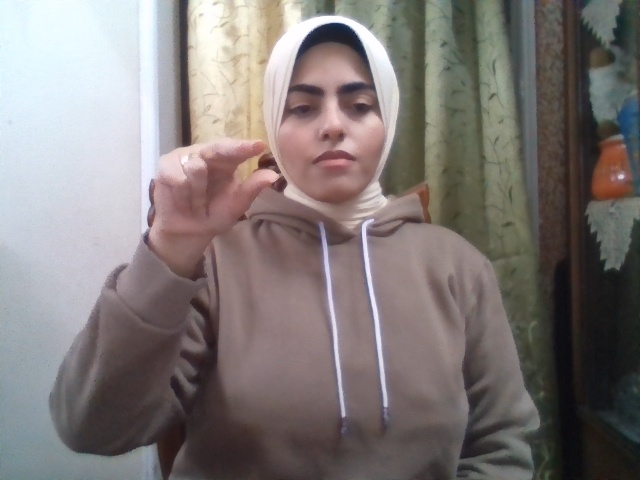no: (153, 139, 279, 239)
